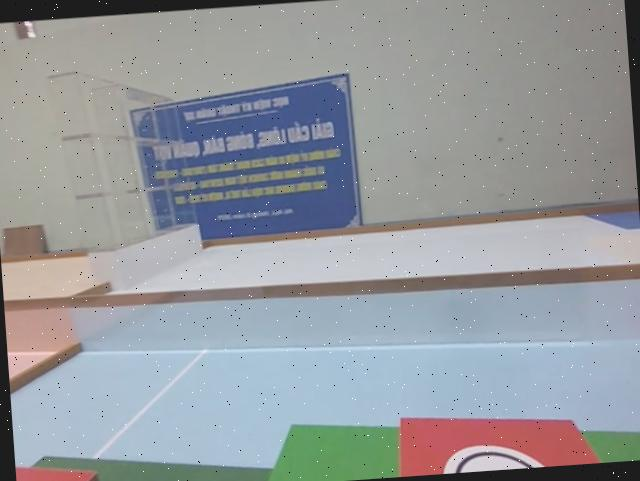R2 Real: (393, 399, 620, 476)
